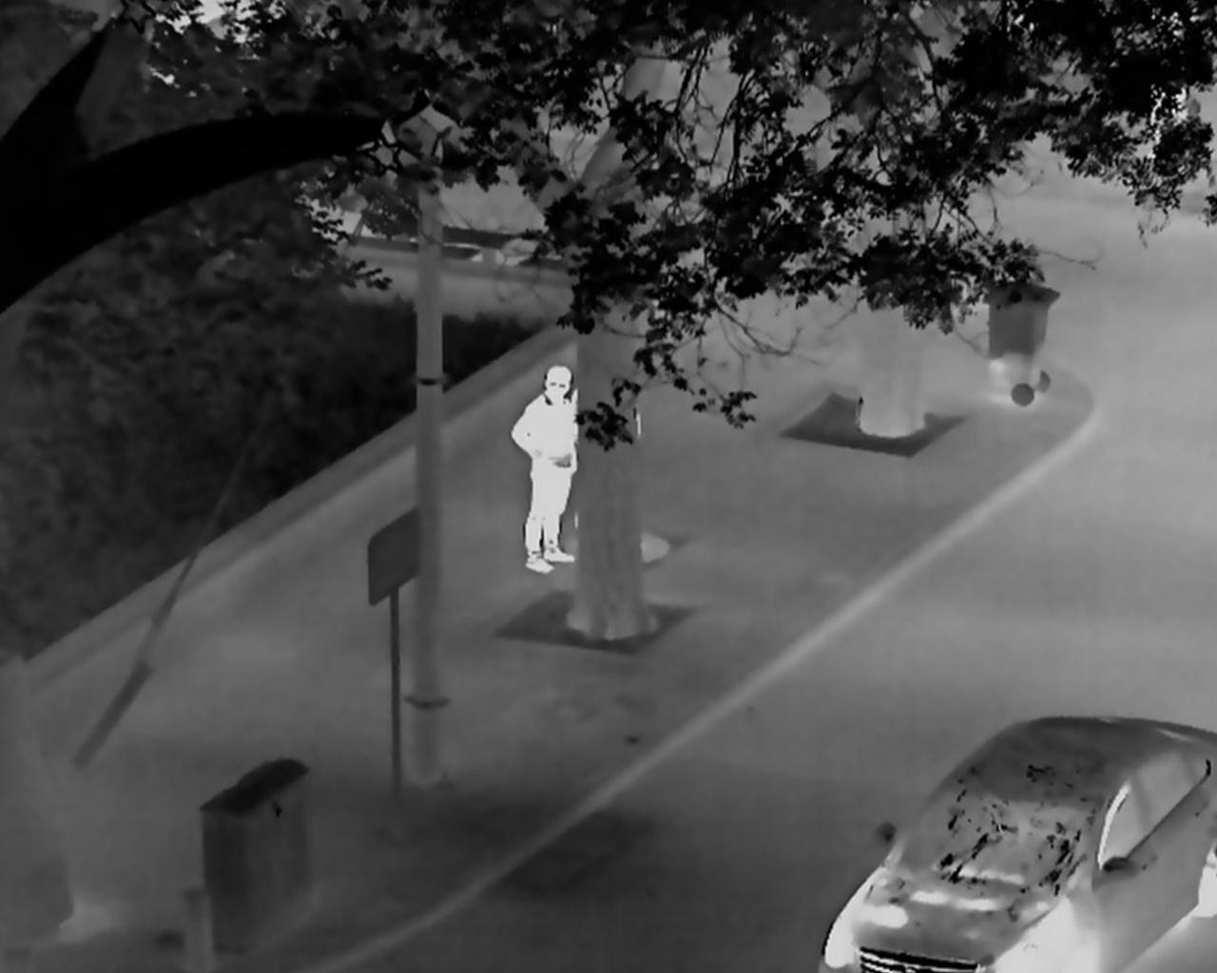person: (512, 365, 577, 578)
